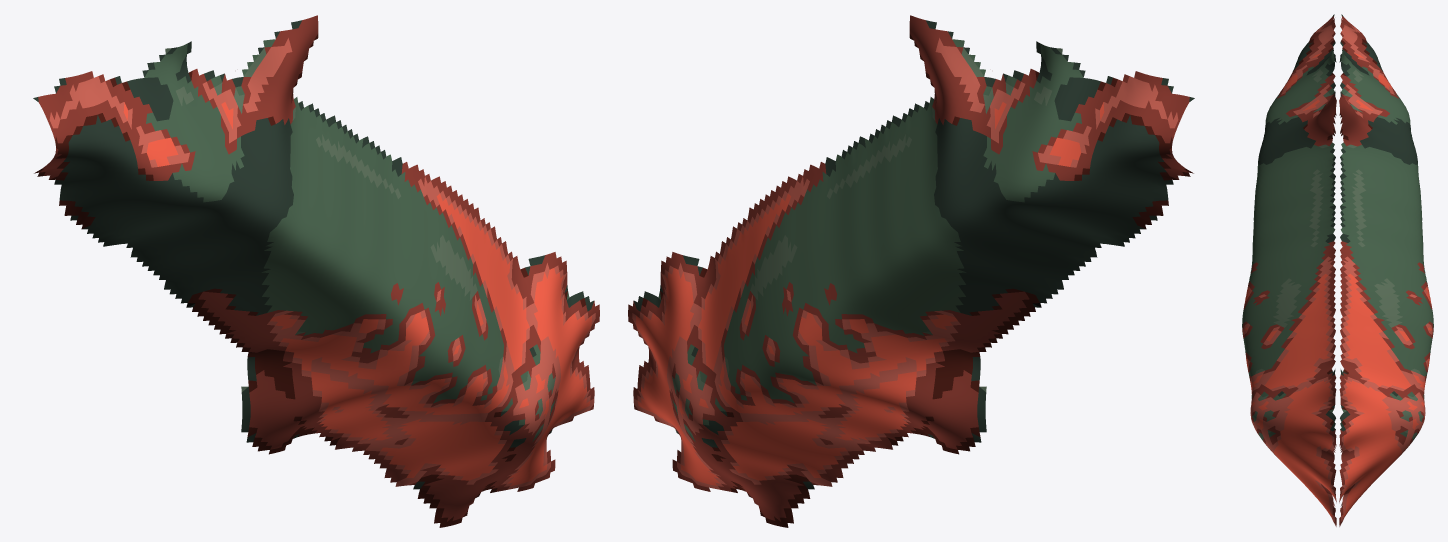
The model's file is dracopaia.glb.
3 views of the same model, side by side, from view 1: azimuth 30°, elevation 25°; view 2: azimuth 150°, elevation 25°; view 3: azimuth 270°, elevation 25° (orthographic). The views are drawn at different scales.
Visible parts, largest first — view 1: dracopaia; view 2: dracopaia; view 3: dracopaia.
Boxes of the visible parts, left/top/right/bottom form: dracopaia: left=33, top=15, right=599, bottom=527; dracopaia: left=628, top=15, right=1194, bottom=527; dracopaia: left=1242, top=14, right=1433, bottom=526.
Bounding box in the file's own units: 1319 × 1215 × 571.
